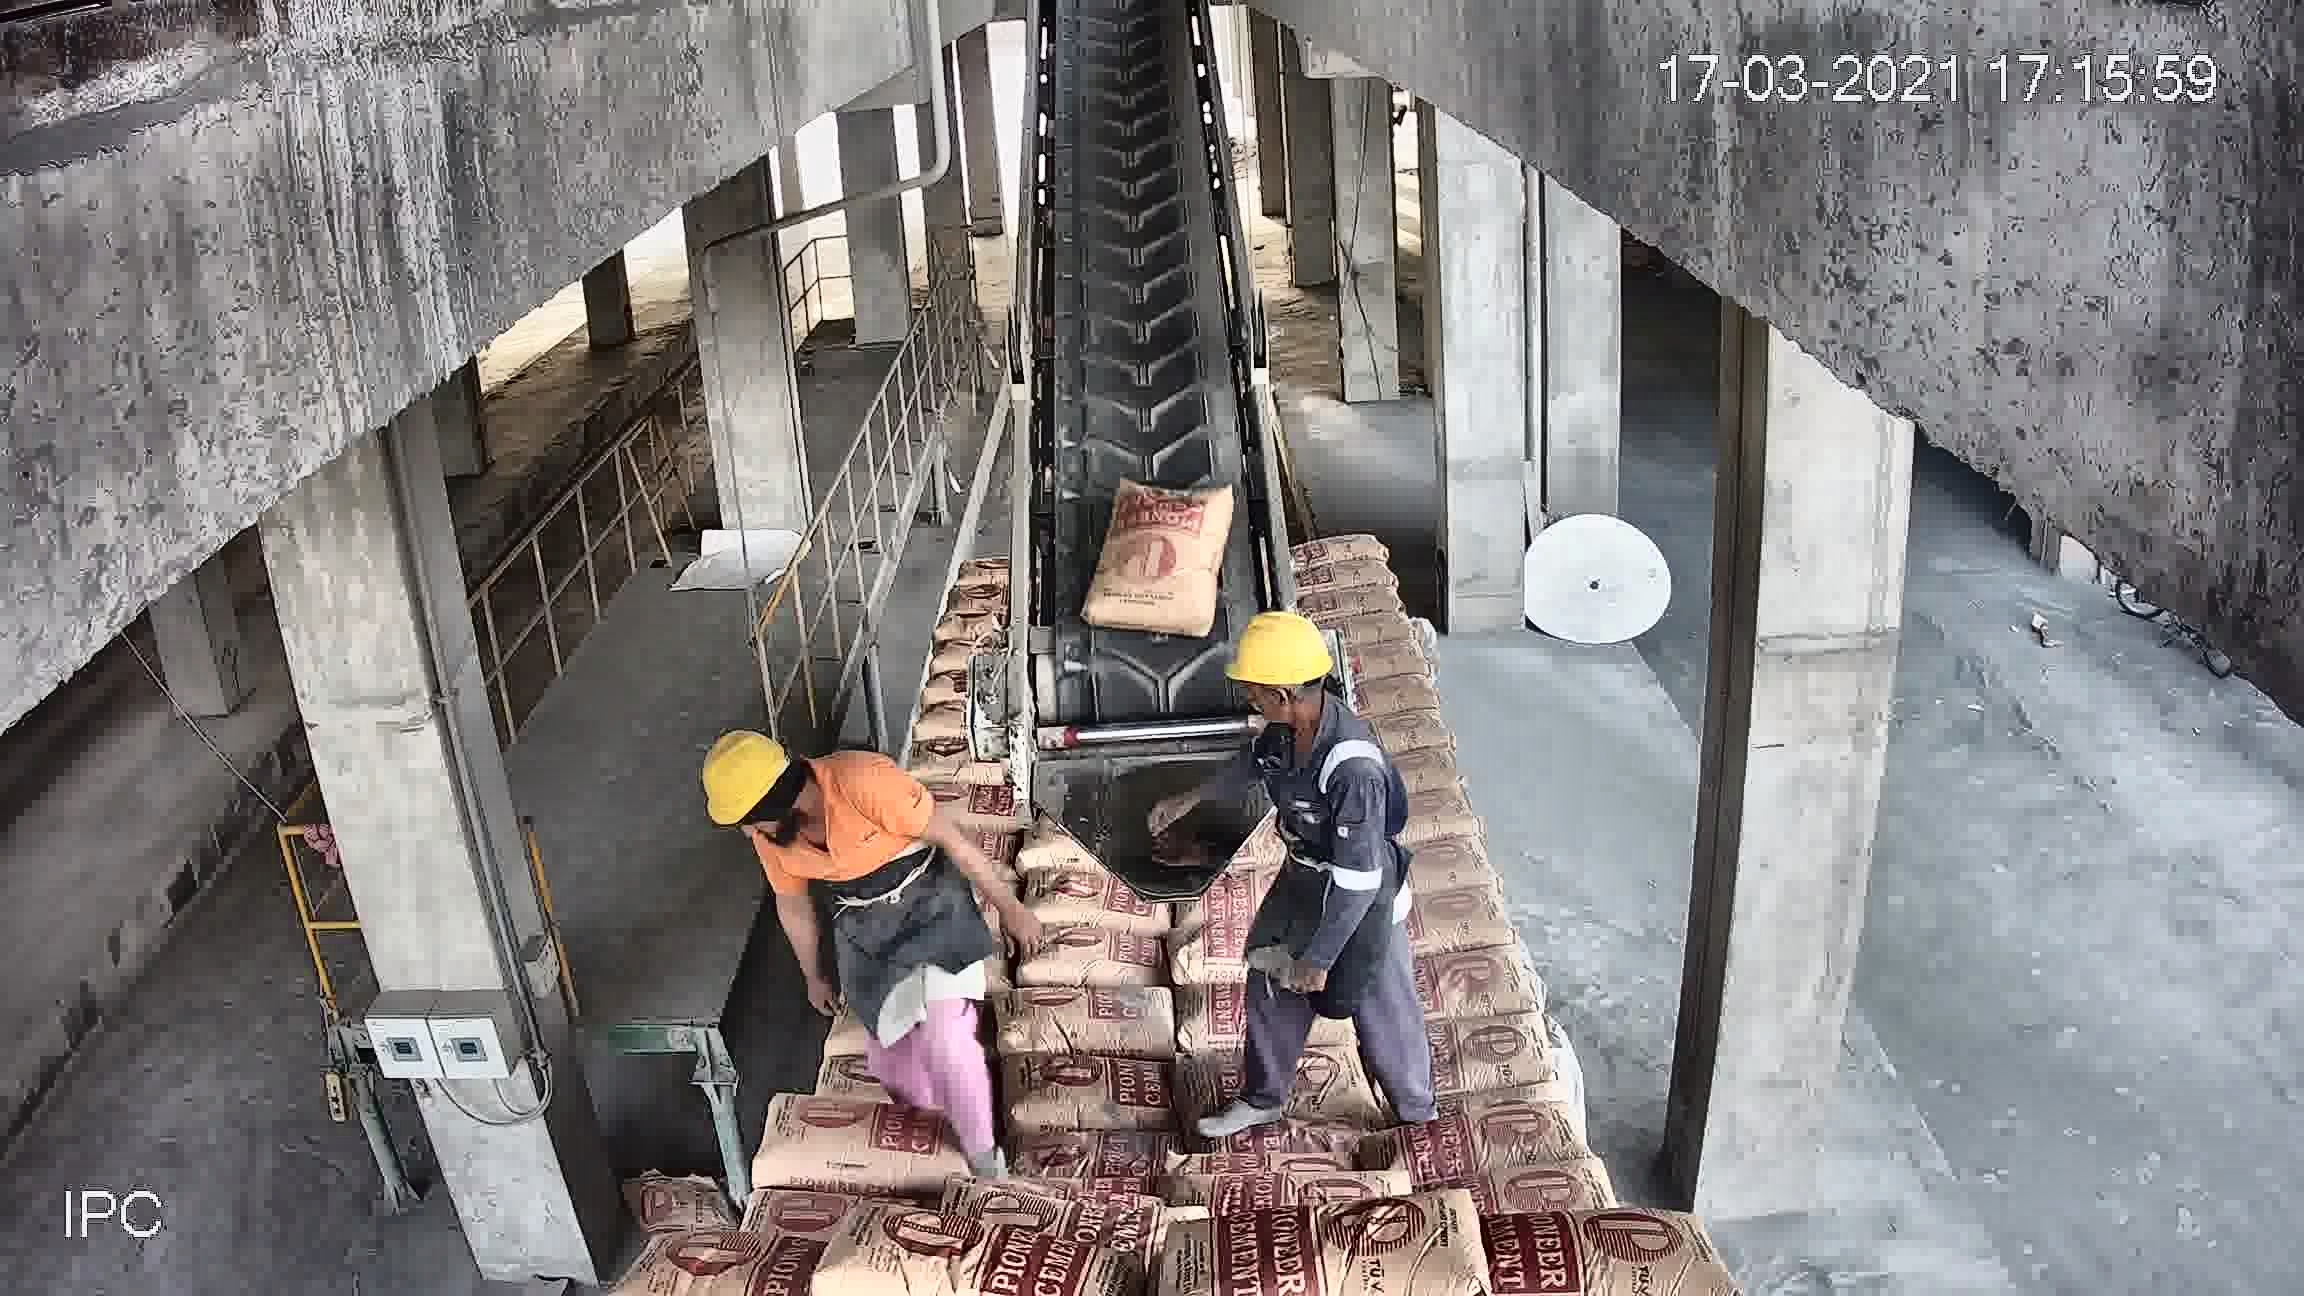bag: (999, 0, 1283, 832), (1078, 475, 1234, 631)
bag_h: (1131, 1215, 1442, 1296), (1435, 1204, 1696, 1294), (729, 1105, 976, 1196), (812, 1222, 1111, 1294), (1380, 1100, 1581, 1196), (1003, 1051, 1171, 1139), (639, 1226, 848, 1296), (1415, 1021, 1568, 1105), (1412, 946, 1557, 1030), (1010, 927, 1169, 997), (1002, 992, 1173, 1057), (1021, 870, 1161, 935), (1391, 880, 1497, 961), (1299, 587, 1405, 628), (1307, 562, 1400, 600), (1302, 540, 1396, 565)
